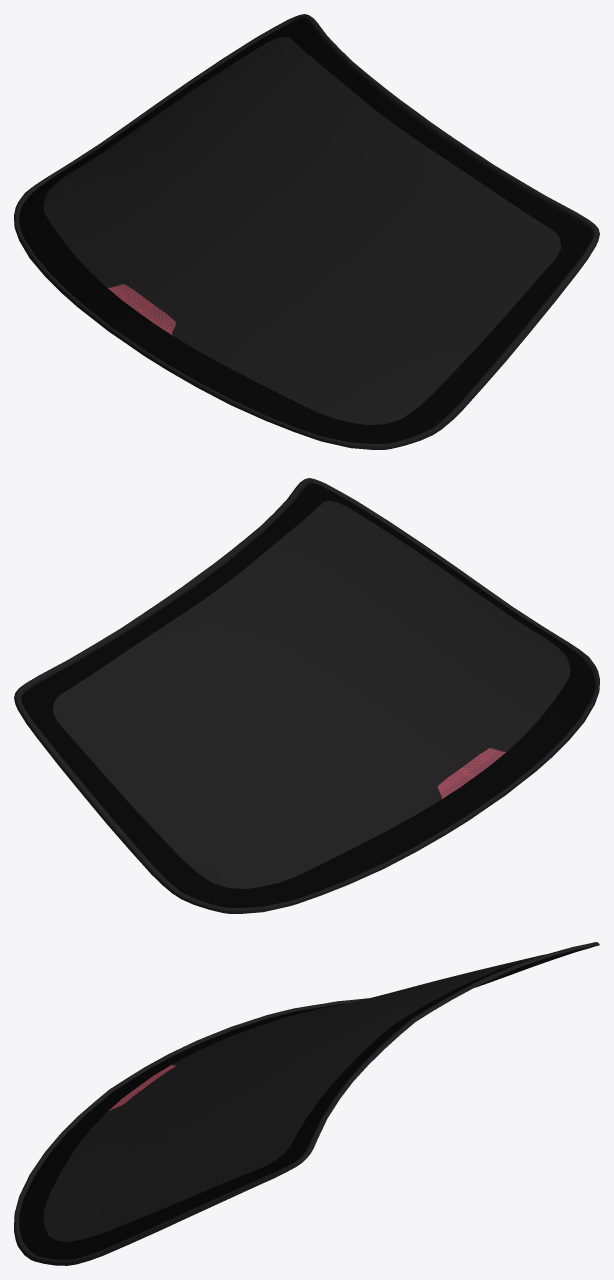
The picture shows the model from 3 angles, top to bottom: view 1: azimuth 30°, elevation 25°; view 2: azimuth 150°, elevation 25°; view 3: azimuth 330°, elevation 25°; orthographic projection.
Visible parts, largest first — view 1: H126_365C_C_H126_365C_C_3_DTaSI, H126_365C_C_H126_365C_C_2_DTaSI, H126_365C_C_H126_365C_C_5_D, H126_365C_C_H126_365C_C_4_N, H126_365C_C_1_DTaSI_H126_365C_C; view 2: H126_365C_C_H126_365C_C_3_DTaSI, H126_365C_C_H126_365C_C_2_DTaSI, H126_365C_C_H126_365C_C_5_D, H126_365C_C_H126_365C_C_4_N, H126_365C_C_1_DTaSI_H126_365C_C; view 3: H126_365C_C_H126_365C_C_3_DTaSI, H126_365C_C_H126_365C_C_2_DTaSI, H126_365C_C_H126_365C_C_5_D.
Boxes of the visible parts, <box> form: H126_365C_C_H126_365C_C_3_DTaSI: <box>43,37,561,424</box>; H126_365C_C_H126_365C_C_2_DTaSI: <box>19,19,592,443</box>; H126_365C_C_H126_365C_C_5_D: <box>14,14,599,449</box>; H126_365C_C_H126_365C_C_4_N: <box>107,284,175,334</box>; H126_365C_C_1_DTaSI_H126_365C_C: <box>108,284,175,334</box>; H126_365C_C_H126_365C_C_3_DTaSI: <box>52,500,570,888</box>; H126_365C_C_H126_365C_C_2_DTaSI: <box>21,483,594,907</box>; H126_365C_C_H126_365C_C_5_D: <box>14,478,599,913</box>; H126_365C_C_H126_365C_C_4_N: <box>438,748,506,798</box>; H126_365C_C_1_DTaSI_H126_365C_C: <box>438,748,505,798</box>; H126_365C_C_H126_365C_C_3_DTaSI: <box>43,954,545,1241</box>; H126_365C_C_H126_365C_C_2_DTaSI: <box>19,948,583,1259</box>; H126_365C_C_H126_365C_C_5_D: <box>14,942,599,1265</box>.
Bounding box in the file's own units: 86.79 × 38.78 × 159.
